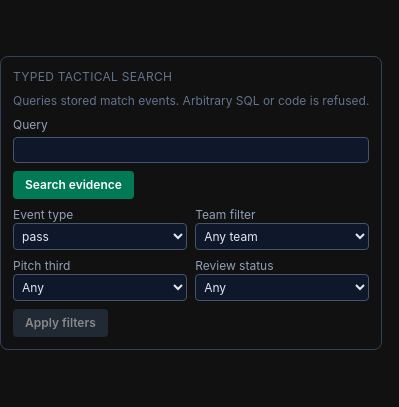
clears completed search results when the match changes
What coordinates should you click on to do the following:
click the button "Search evidence"
I would click on:
 (73, 185)
Its box is x1=13 y1=171 x2=134 y2=199.
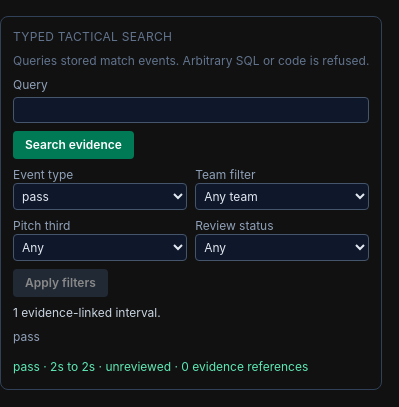
Check: the button "pass · 2s to 2s · unreviewed · 0 evidence references" is shown, box x1=13 y1=359 x2=308 y2=375
